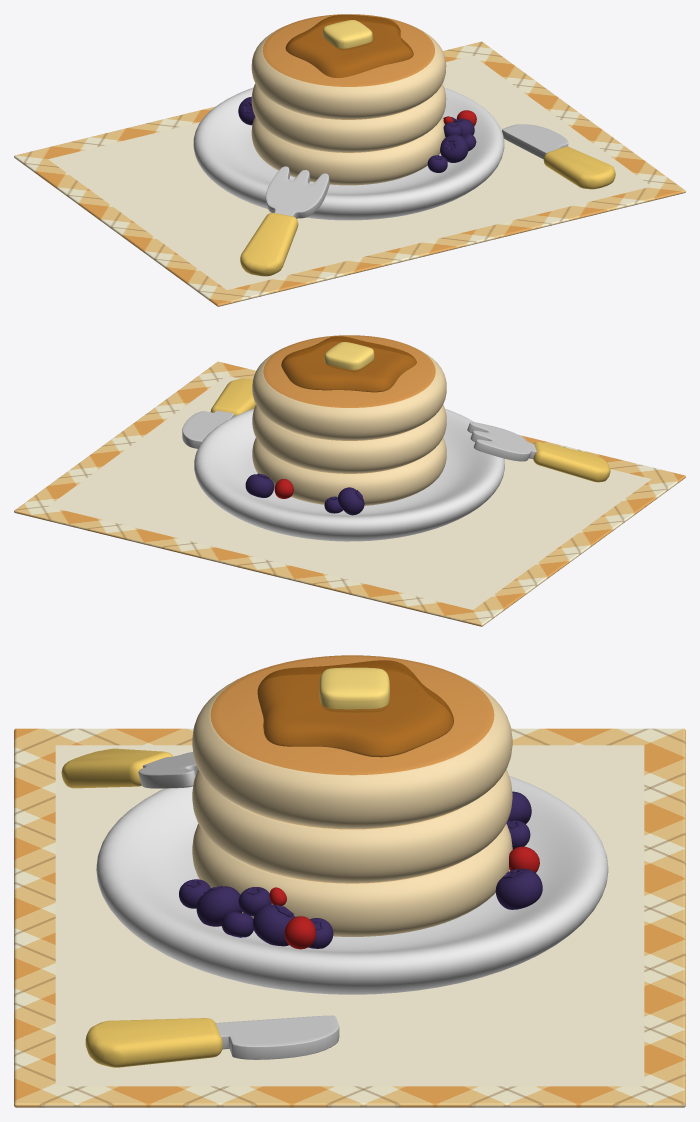
Rendered from pan_cake.glb.
The picture shows the model from 3 angles, top to bottom: view 1: azimuth 30°, elevation 25°; view 2: azimuth 150°, elevation 25°; view 3: azimuth 270°, elevation 25°; orthographic projection. The views are drawn at different scales.
Visible parts, largest first — view 1: Plane, Cylinder.002, Circle.005, Cylinder.001, Cylinder.004, Cylinder.003, Cube.002, Plane.001, Cube.003, Plane.002, Cube.001, Circle; view 2: Plane, Circle.005, Cylinder.002, Cylinder.001, Cylinder.004, Cylinder.003, Cube.002, Plane.001, Cube.001, Cube.003, Plane.002, Circle.015 (+1 smaller); view 3: Plane, Circle.005, Cylinder.002, Cylinder.001, Cylinder.004, Cylinder.003, Cube.003, Plane.002, Cube.002, Cube.001, Plane.001, Circle.002 (+5 smaller).
Boxes of the visible parts, x1,y1,x2,y2 form: Plane: [14, 41, 685, 306]; Cylinder.002: [251, 14, 446, 119]; Circle.005: [193, 87, 504, 220]; Cylinder.001: [251, 83, 446, 152]; Cylinder.004: [251, 116, 445, 185]; Cylinder.003: [285, 14, 413, 77]; Cube.002: [240, 213, 298, 276]; Plane.001: [265, 166, 329, 218]; Cube.003: [543, 146, 615, 189]; Plane.002: [502, 124, 568, 159]; Cube.001: [322, 20, 372, 49]; Circle: [440, 134, 468, 162]; Plane: [14, 361, 685, 626]; Circle.005: [194, 408, 504, 541]; Cylinder.002: [252, 335, 446, 440]; Cylinder.001: [252, 404, 446, 473]; Cylinder.004: [252, 437, 446, 505]; Cylinder.003: [281, 336, 416, 392]; Cube.002: [533, 441, 610, 482]; Plane.001: [467, 422, 536, 461]; Cube.001: [324, 342, 374, 371]; Cube.003: [210, 378, 255, 416]; Plane.002: [182, 410, 234, 448]; Circle.015: [338, 487, 364, 515]; Plane: [14, 728, 685, 1107]; Circle.005: [96, 776, 608, 994]; Cylinder.002: [192, 655, 512, 828]; Cylinder.001: [192, 769, 512, 883]; Cylinder.004: [192, 824, 512, 936]; Cylinder.003: [257, 660, 453, 757]; Cube.003: [85, 1018, 222, 1067]; Plane.002: [215, 1015, 339, 1059]; Cube.002: [61, 748, 172, 788]; Cube.001: [319, 667, 389, 712]; Plane.001: [138, 752, 198, 788]; Circle.002: [495, 868, 542, 909].
Bounding box in the file's own units: 10.64 × 3.18 × 8.03.
12 materials, 1 textured.
